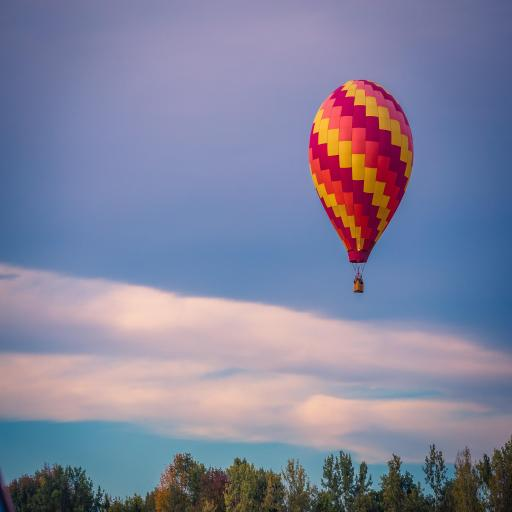hot air ballon: (309, 81, 415, 294)
